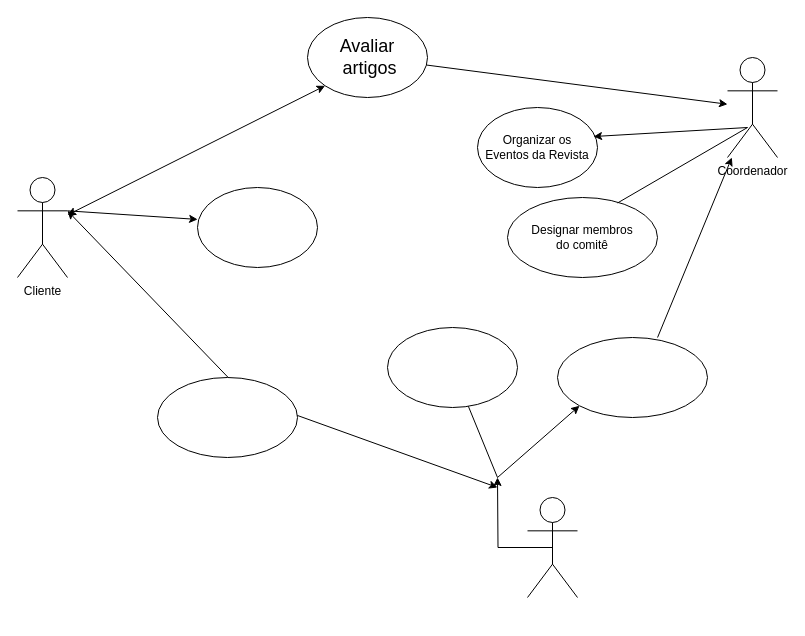
The diagram is 805 pixels wide and 636 high, and some of its shapes have lost their labels. Here are the shapes that lost their labels. From the top down, the centre of each, then its label:
At pixel 632 377: "Fazer Relatórios".
At pixel 227 417: "Realizar Cadastros".
At pixel 552 547: "Editor".
